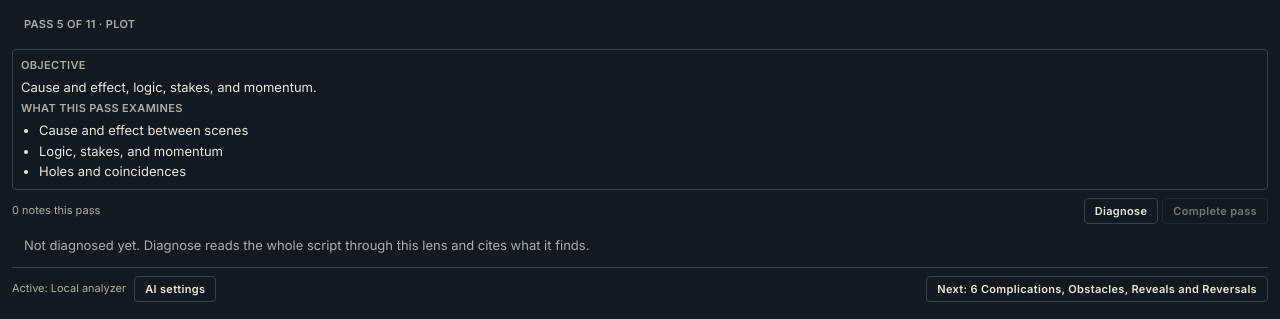
Test: the guided pass workspace › a diagnosed pass with nothing to cite says what was checked
expect the text "Not diagnosed yet" is shown: met, box 24,237 -> 589,253
Click the button "Diagnose" at (1121, 211), box 1084,198 -> 1158,224
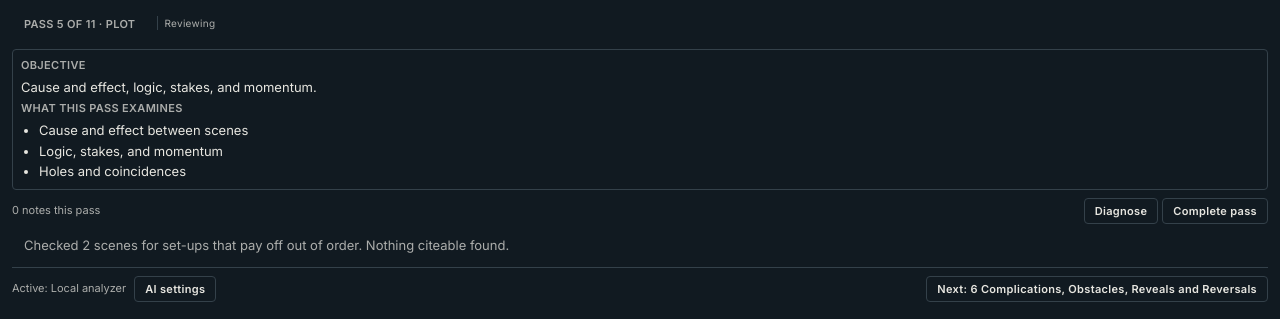
expect the text "Checked 2 scenes for set-ups that pay off out of order" is shown: met, box 24,237 -> 509,253
